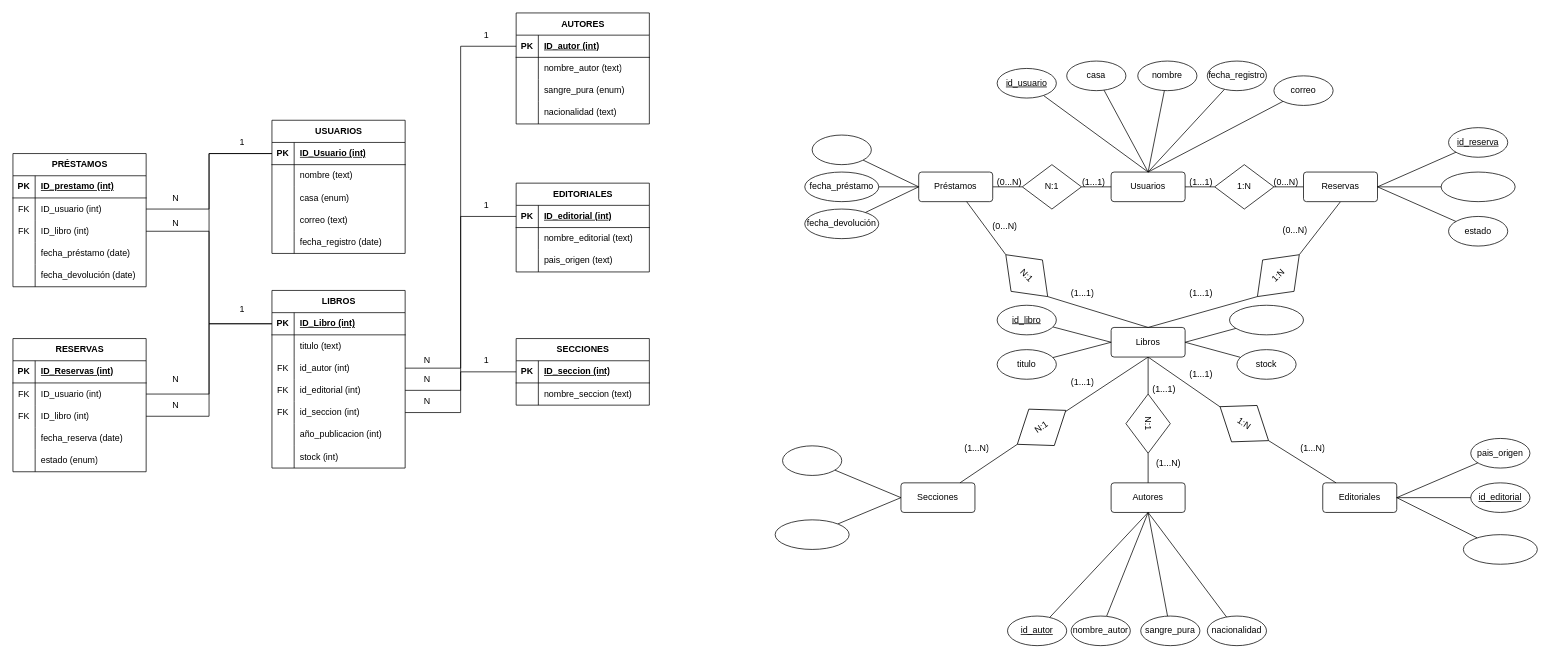
This 1550x659 diagram has some shape labels left out. The shapes that lost their labels are listed below. From the top down, each one's centre as x and y in pixels, then its label:
At point 841,149: "id_préstamo".
At point 1477,186: "fecha_reserva".
At point 1266,320: "año_publicación".
At point 812,460: "id_seccion".
At point 811,534: "nombre_seccion".
At point 1500,549: "nombre_editorial".
